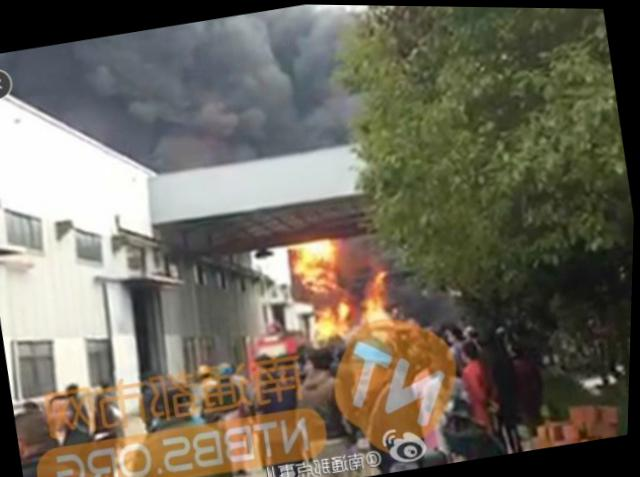fire: (289, 233, 346, 294), (361, 270, 396, 318), (317, 298, 356, 336)
